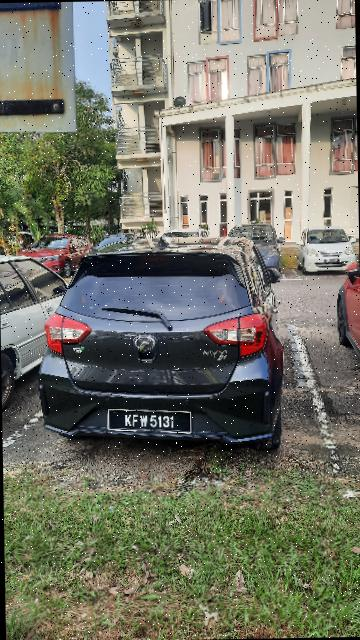License_Plate: (95, 401, 204, 449)
car: (34, 234, 289, 471), (1, 253, 72, 415), (229, 223, 292, 285), (298, 224, 360, 277), (328, 261, 360, 363), (24, 232, 89, 276), (95, 229, 145, 274), (153, 225, 208, 261)
